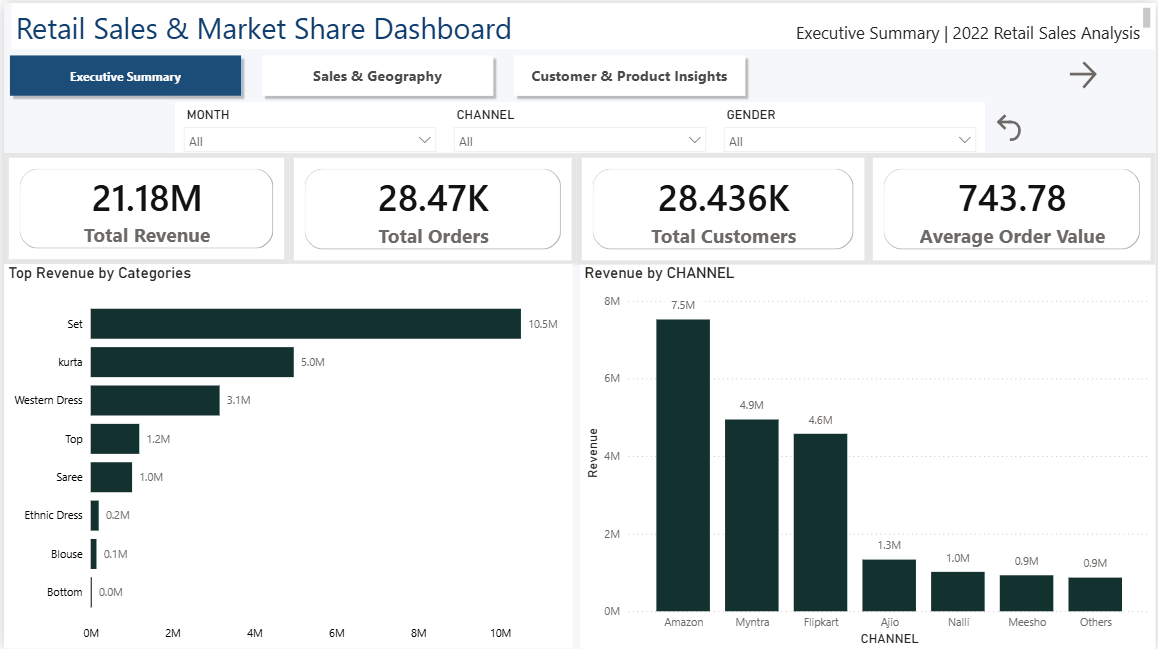

What the dashboard file says about the page in this screenshot:
{"tool":"powerbi","page":{"name":"Executive Summary","canvas":[1280,720],"ordinal":0},"visuals":[{"type":"lineStackedColumnComboChart","fields":{"Category":["RETAIL_SALES.CHANNEL"],"Y":["Sum(RETAIL_SALES.AMOUNT)"]},"box":[640.5,290.7,639,428.5],"z":0},{"type":"textbox","box":[9.1,0,1270.4,51.5],"z":1000},{"type":"cardVisual","fields":{"Data":["Sum(RETAIL_SALES.AMOUNT)"]},"box":[0,166.6,316.5,124.2],"z":2000},{"type":"cardVisual","fields":{"Data":["Count(RETAIL_SALES.ORDER_ID)"]},"box":[316.5,166.6,319.5,124.2],"z":3000},{"type":"cardVisual","fields":{"Data":["Count(RETAIL_SALES.CUST_ID)"]},"box":[636,166.6,324,124.2],"z":4000},{"type":"cardVisual","fields":{"Data":["RETAIL_SALES.Average Order Value"]},"box":[960,166.6,319.5,124.2],"z":5000},{"type":"clusteredBarChart","fields":{"Category":["RETAIL_SALES.CATEGORY"],"Y":["Sum(RETAIL_SALES.AMOUNT)"]},"box":[0,290,632,428],"z":6000},{"type":"slicer","fields":{"Values":["RETAIL_SALES.MONTH_NAME"]},"box":[190.8,110.5,299.8,56],"z":7000},{"type":"slicer","fields":{"Values":["RETAIL_SALES.CHANNEL"]},"box":[490.1,110.5,299.8,56],"z":8000},{"type":"slicer","fields":{"Values":["RETAIL_SALES.GENDER"]},"box":[790.4,110.5,299.8,56],"z":9000},{"type":"pageNavigator","box":[0,51.7,831.7,58.3],"z":10000},{"type":"actionButton","box":[1096,118,46,40],"z":11000},{"type":"actionButton","box":[1178,60,100,40],"z":12000}]}

Visuals, with their boxes in screenshot pixels (x1, y1, x2, y2), scaled from the page's 1280x720 canvas onto the 1158x649 screenshot:
lineStackedColumnComboChart - RETAIL_SALES.CHANNEL x Sum(RETAIL_SALES.AMOUNT): box(579, 262, 1157, 648)
textbox: box(8, 0, 1157, 46)
cardVisual - Sum(RETAIL_SALES.AMOUNT): box(0, 150, 286, 262)
cardVisual - Count(RETAIL_SALES.ORDER_ID): box(286, 150, 575, 262)
cardVisual - Count(RETAIL_SALES.CUST_ID): box(575, 150, 868, 262)
cardVisual - RETAIL_SALES.Average Order Value: box(868, 150, 1157, 262)
clusteredBarChart - RETAIL_SALES.CATEGORY x Sum(RETAIL_SALES.AMOUNT): box(0, 261, 572, 647)
slicer - RETAIL_SALES.MONTH_NAME: box(173, 100, 444, 150)
slicer - RETAIL_SALES.CHANNEL: box(443, 100, 715, 150)
slicer - RETAIL_SALES.GENDER: box(715, 100, 986, 150)
pageNavigator: box(0, 47, 752, 99)
actionButton: box(992, 106, 1033, 142)
actionButton: box(1066, 54, 1156, 90)
